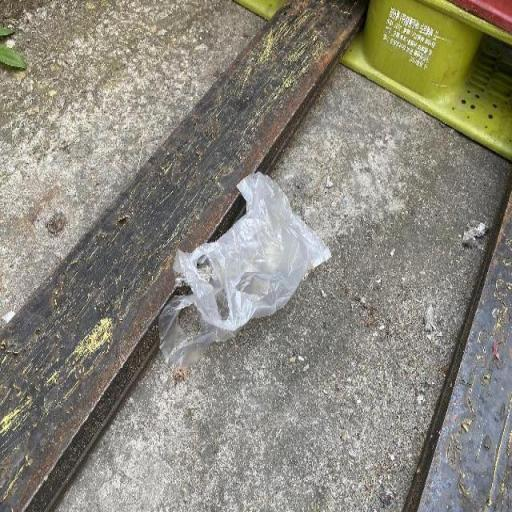plastic-bag: (156, 168, 334, 378)
